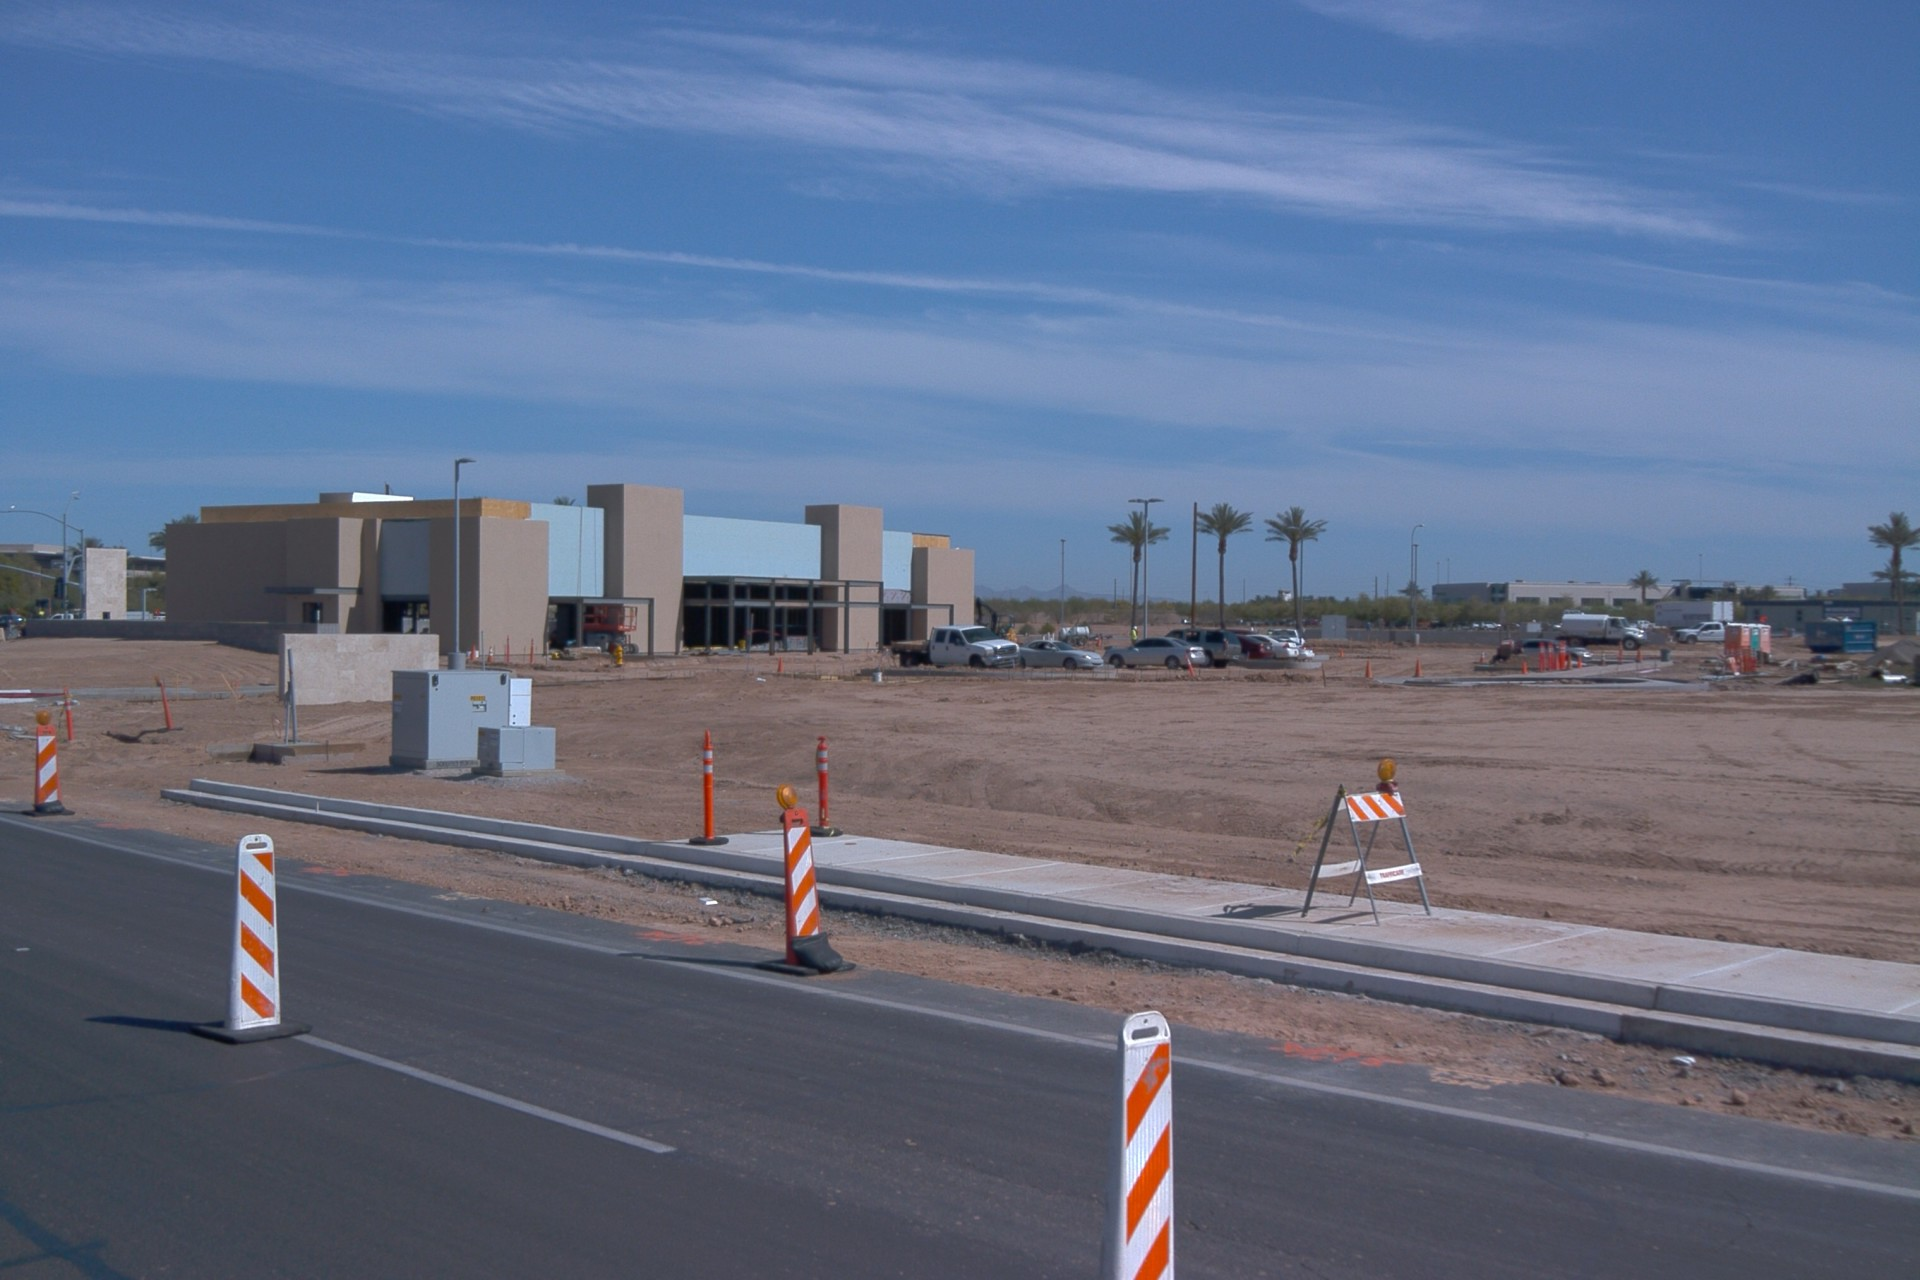TYPE_PEDESTRIAN: (1127, 623, 1145, 650), (1265, 626, 1274, 636), (1248, 624, 1256, 633)
TYPE_VEHICLE: (890, 620, 1021, 669), (1157, 621, 1245, 669), (1553, 614, 1648, 655), (1103, 634, 1208, 671), (1015, 636, 1105, 669), (1521, 636, 1600, 661), (1228, 628, 1278, 661), (1247, 632, 1302, 658), (1672, 624, 1727, 648), (1265, 629, 1308, 649), (1057, 627, 1095, 647), (1296, 645, 1315, 663), (1480, 621, 1503, 633), (1221, 633, 1264, 639), (49, 614, 74, 621), (155, 609, 168, 622), (1471, 621, 1479, 633)
